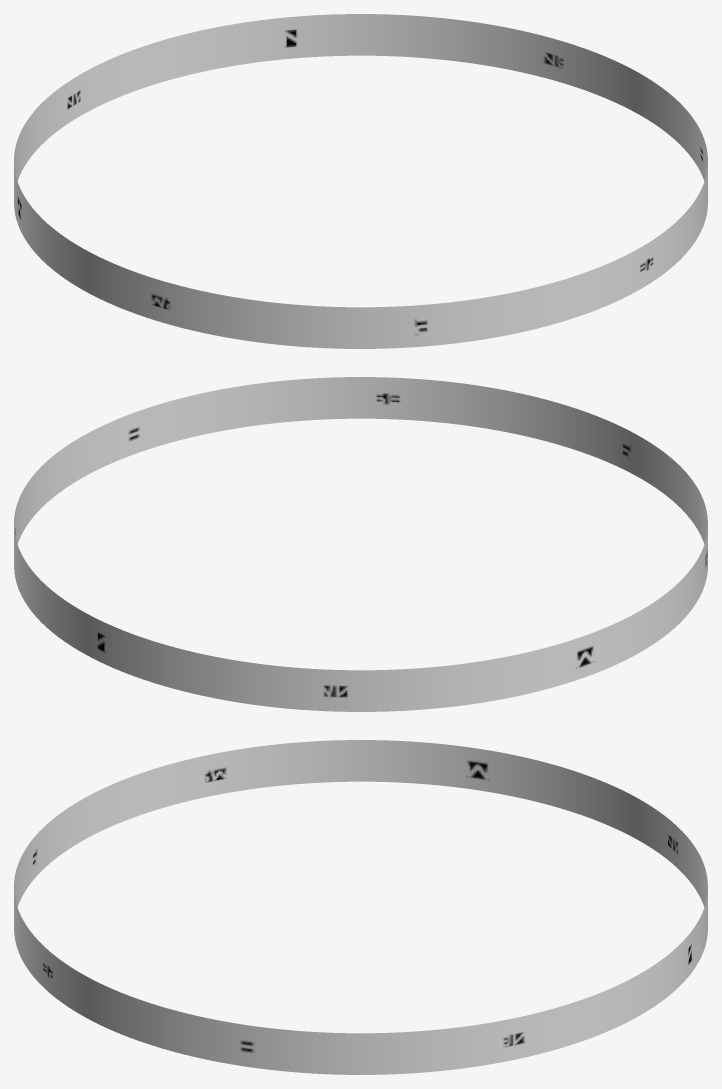
File: CompassRing.fbx
3 renders of one model, top to bottom at view 1: azimuth 30°, elevation 25°; view 2: azimuth 150°, elevation 25°; view 3: azimuth 270°, elevation 25°, orthographic.
Visible parts, largest first — view 1: CompassRing; view 2: CompassRing; view 3: CompassRing.
Boxes of the visible parts, left/top/right/bottom form: CompassRing: left=14, top=14, right=707, bottom=348; CompassRing: left=14, top=377, right=707, bottom=711; CompassRing: left=14, top=740, right=707, bottom=1074.
Size of the model in its own units: 82.96 by 5.5 by 82.96.
Materials: 1 (1 with a texture image).
